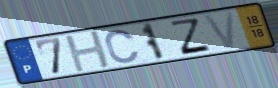1: (139, 21, 168, 62)
7: (33, 35, 65, 77)
C: (104, 28, 142, 64)
H: (63, 29, 114, 74)
V: (201, 10, 238, 51)
Z: (169, 17, 213, 57)
